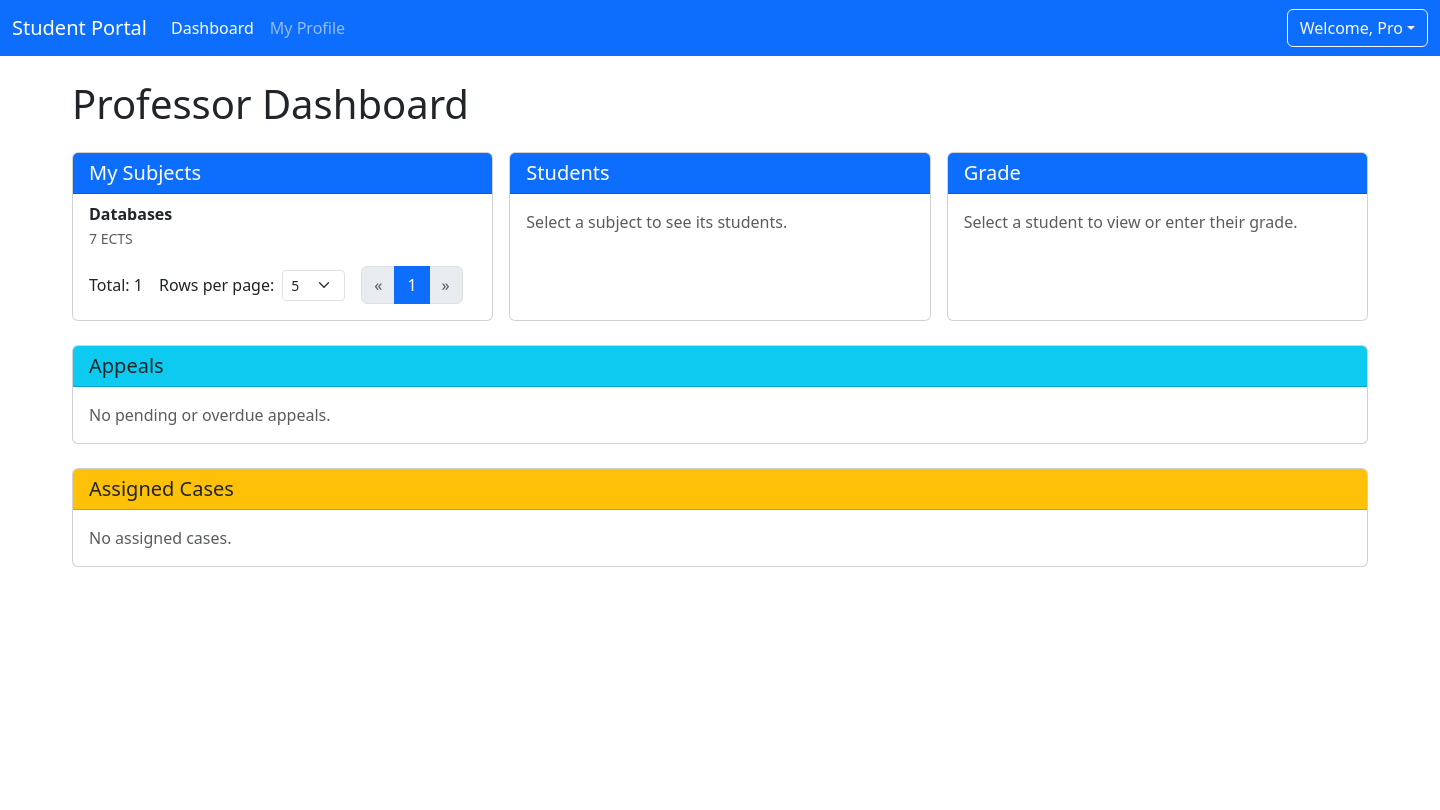
Test: ProfessorDashboardPage (§5.4) › when a subject is clicked then its students load in column 2
Click the text "Databases" at (131, 214), box [89,203,172,225]
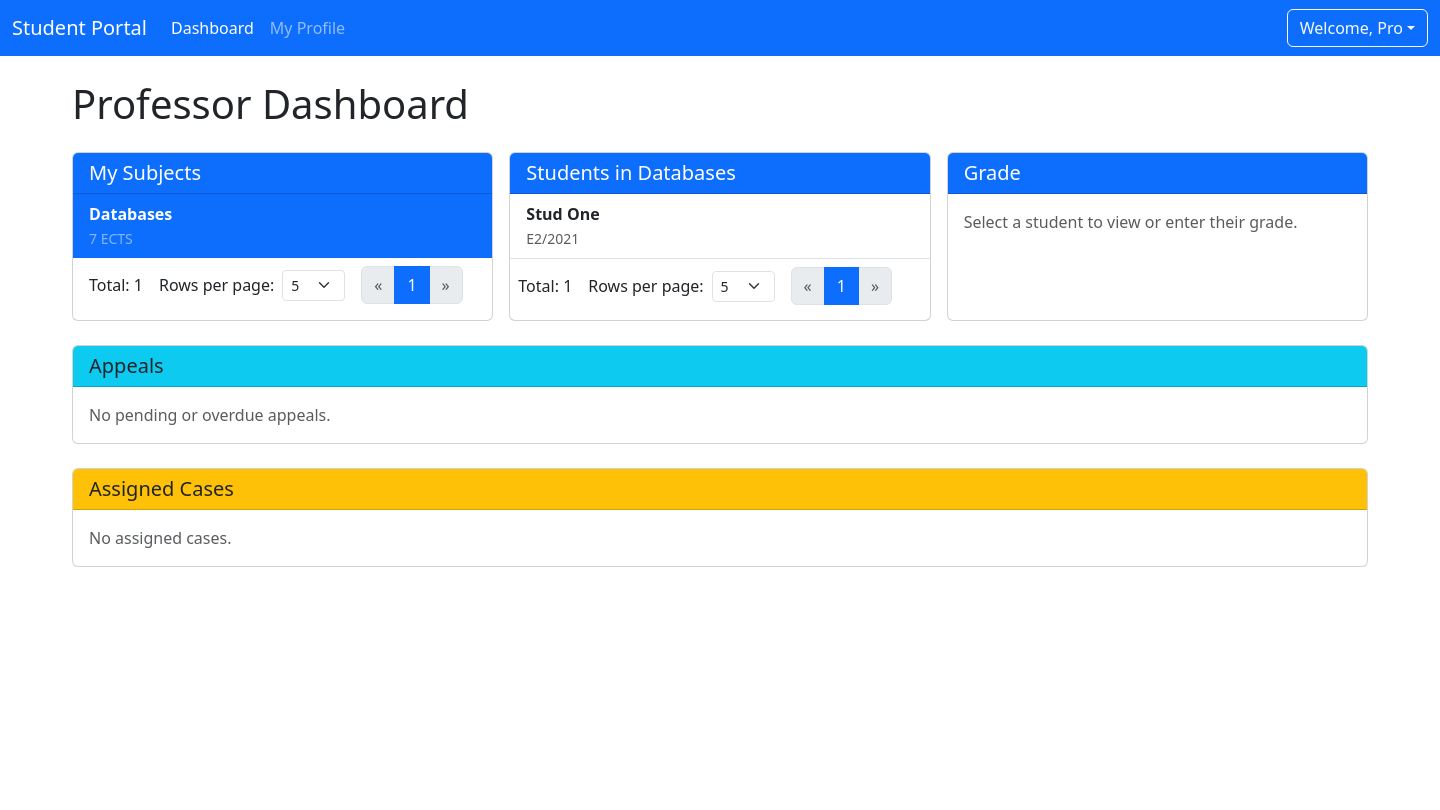
Now the text "Stud One" is shown, box [526,203,600,225]
